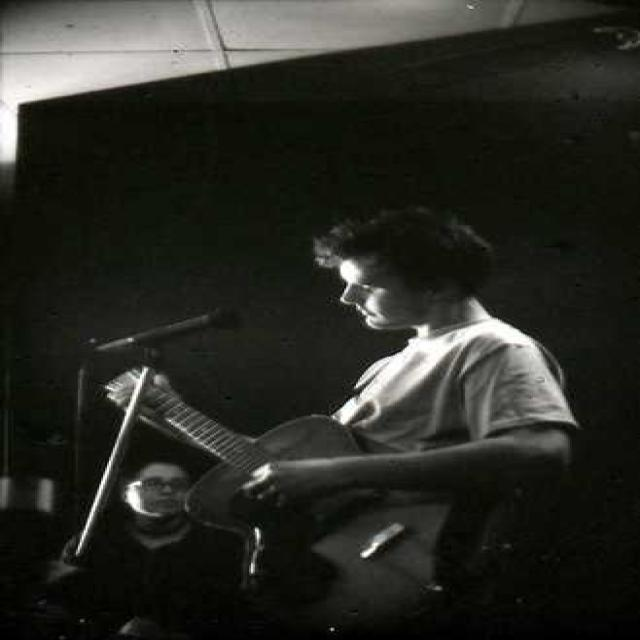microphone: (92, 308, 238, 352)
